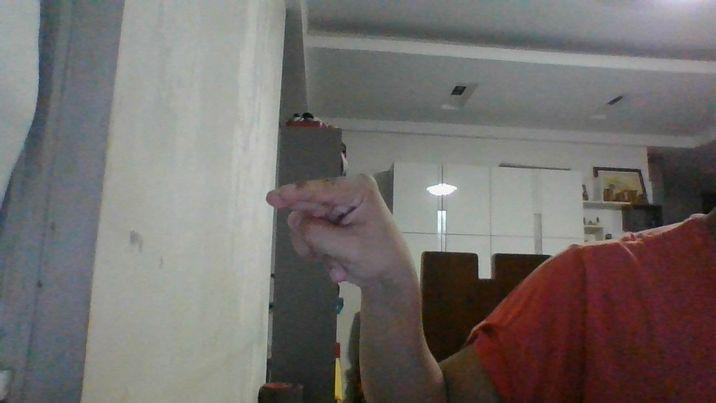n: (266, 173, 416, 284)
